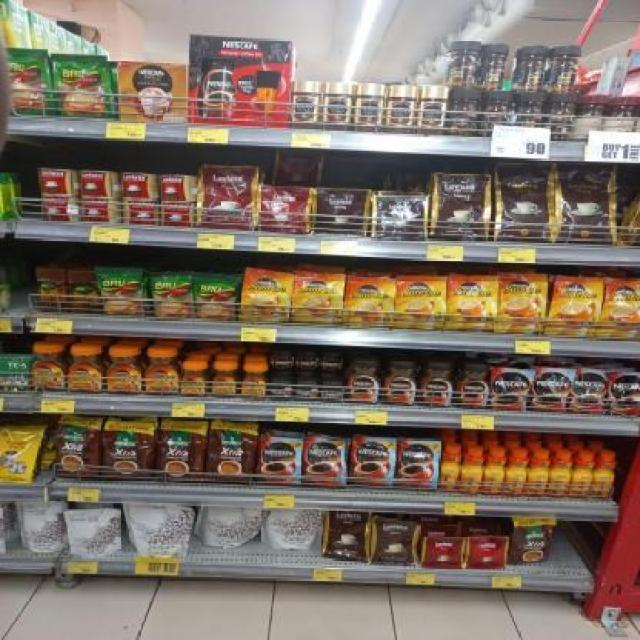Coffee: (549, 277, 601, 335), (497, 274, 545, 333), (447, 276, 495, 332), (395, 279, 447, 330), (598, 279, 640, 339), (292, 272, 340, 323), (349, 437, 395, 489), (347, 279, 393, 330), (243, 272, 289, 322), (257, 437, 301, 487), (396, 441, 439, 492), (302, 439, 346, 487), (67, 347, 105, 393), (530, 368, 568, 414), (144, 349, 181, 396), (30, 346, 66, 392), (491, 368, 529, 411), (106, 350, 143, 394), (345, 359, 381, 403), (455, 365, 491, 409), (419, 363, 453, 409), (572, 370, 606, 416), (381, 362, 417, 404), (608, 374, 640, 418), (356, 84, 384, 132), (419, 87, 447, 135), (292, 81, 320, 128), (323, 83, 351, 129), (389, 85, 415, 132), (241, 365, 269, 399), (180, 365, 208, 398), (211, 365, 238, 398), (577, 451, 594, 499), (445, 446, 461, 492), (533, 451, 549, 497), (599, 451, 615, 497), (465, 449, 481, 493), (487, 449, 503, 493), (555, 451, 571, 495), (510, 451, 524, 497), (319, 381, 345, 403), (269, 350, 295, 371), (318, 351, 344, 372), (269, 380, 293, 401), (294, 381, 318, 402), (295, 352, 318, 372)
